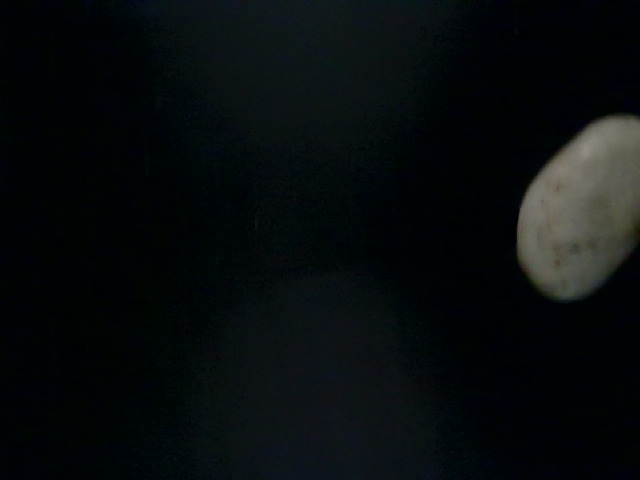QTLJ: (140, 315, 361, 480)
